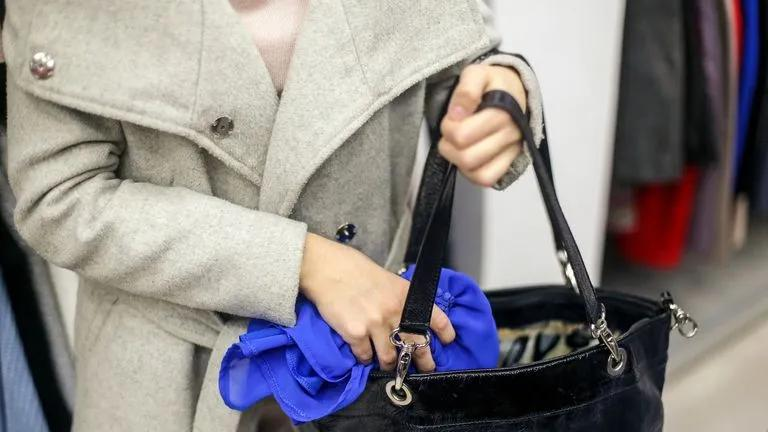shoplifting: (73, 0, 625, 422)
